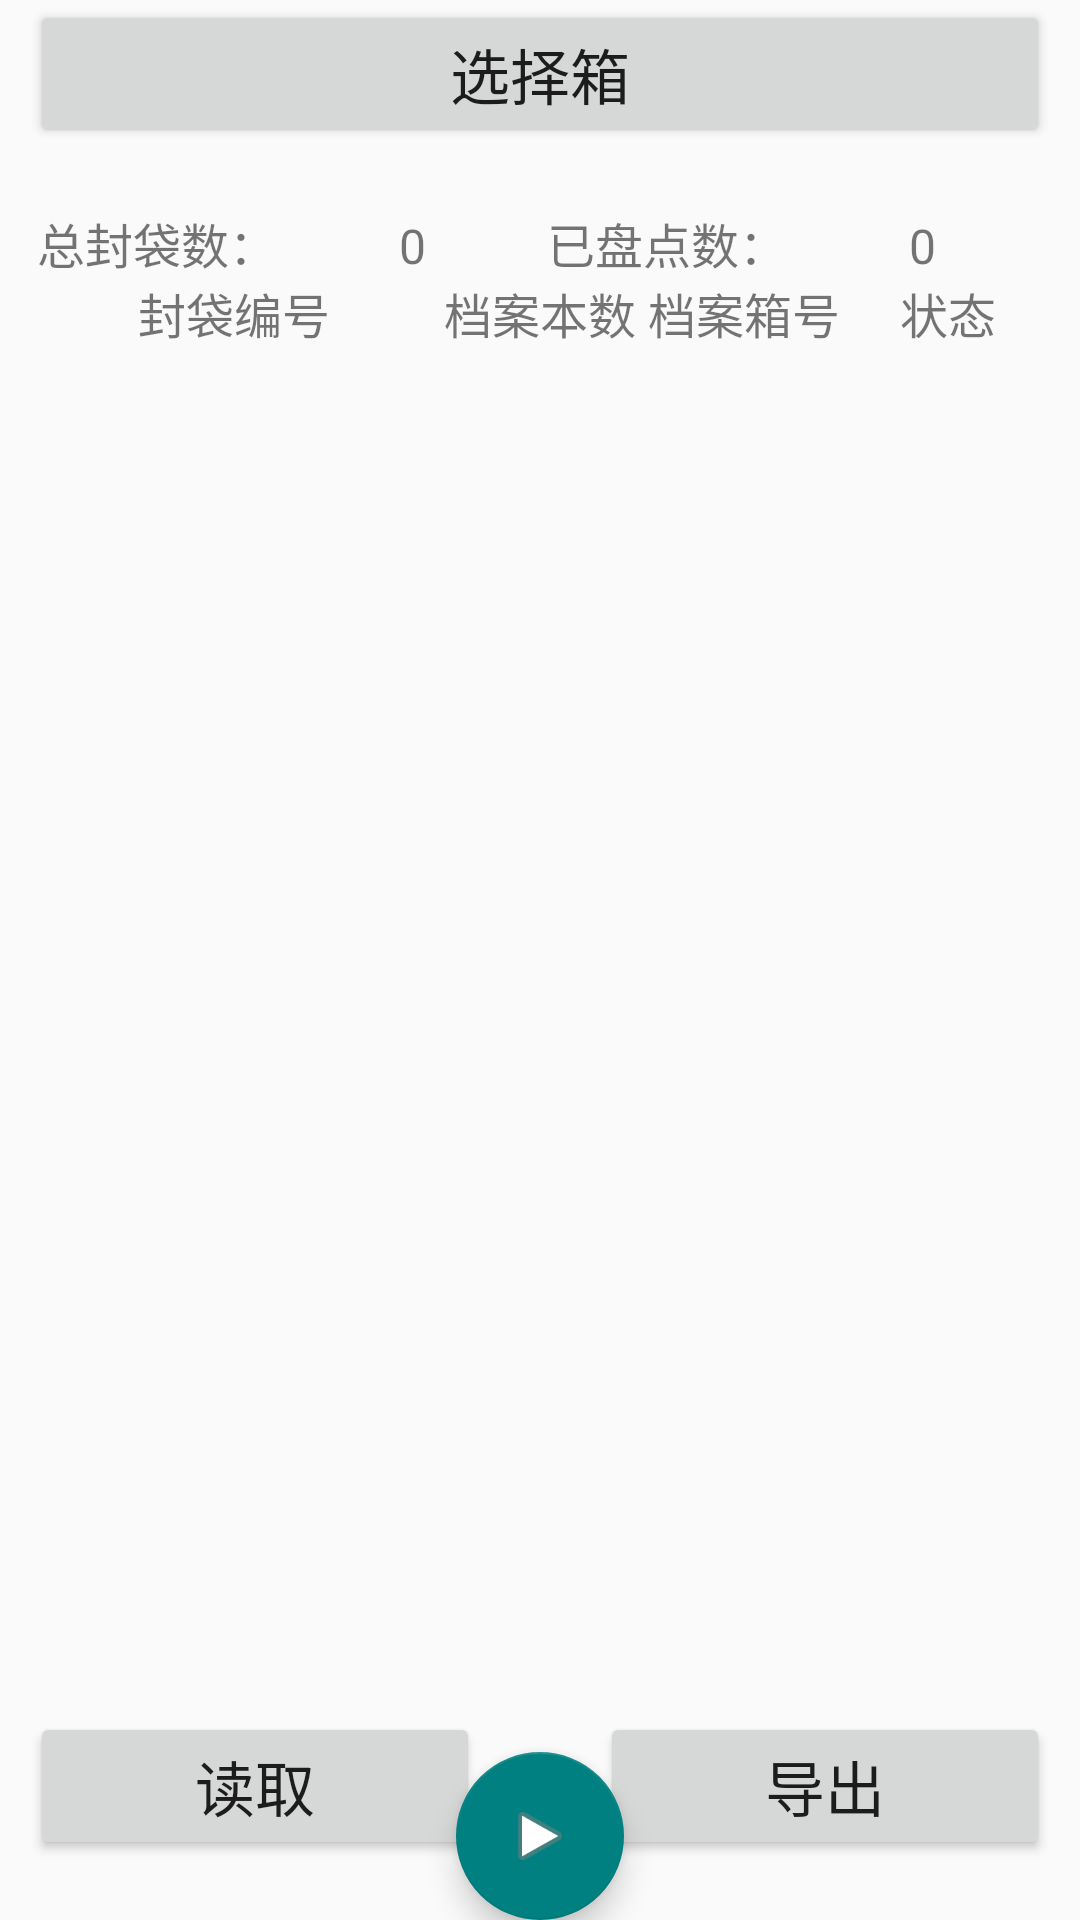

Point at icon controls on the screen. Image size 1080x1920, points as (x=x, y=y).
play: (x=540, y=1836)
